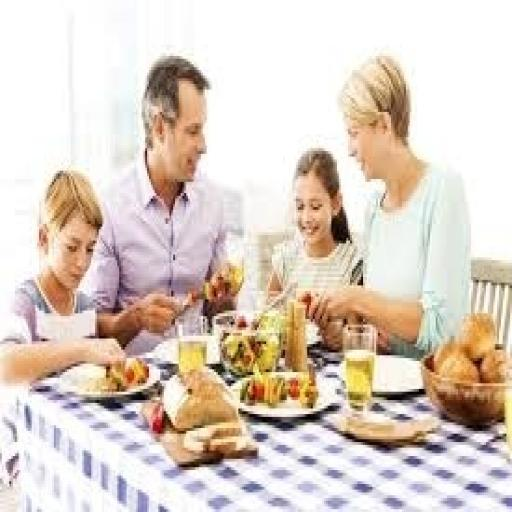eating: (303, 50, 473, 358), (76, 53, 240, 353), (264, 145, 365, 319)
